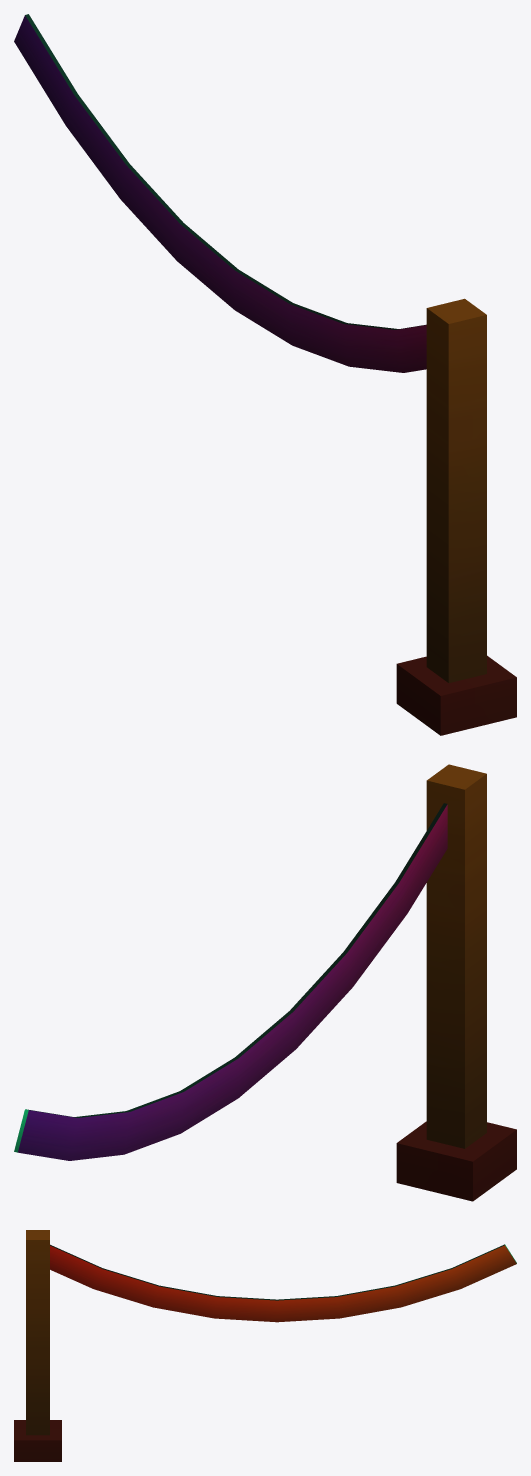
Rendered from exhibit-rail-1.FBX.
The picture shows the model from 3 angles, top to bottom: view 1: azimuth 30°, elevation 25°; view 2: azimuth 150°, elevation 25°; view 3: azimuth 270°, elevation 25°; orthographic projection. The views are drawn at different scales.
Visible parts, largest first — view 1: fencepost, railing_curve, stand; view 2: fencepost, railing_curve, stand; view 3: railing_curve, fencepost, stand.
Part boxes in pixels (box(x1,y1,x2,y2)): fencepost: box(426, 298, 486, 682); railing_curve: box(14, 14, 426, 372); stand: box(396, 655, 516, 735); fencepost: box(426, 764, 486, 1148); railing_curve: box(14, 803, 447, 1160); stand: box(396, 1121, 516, 1201); railing_curve: box(50, 1244, 516, 1322); fencepost: box(26, 1230, 49, 1435); stand: box(14, 1420, 61, 1461).
Bounding box in the file's own units: 0.2 × 2.1 × 1.
Materials: 1 (1 with a texture image).
